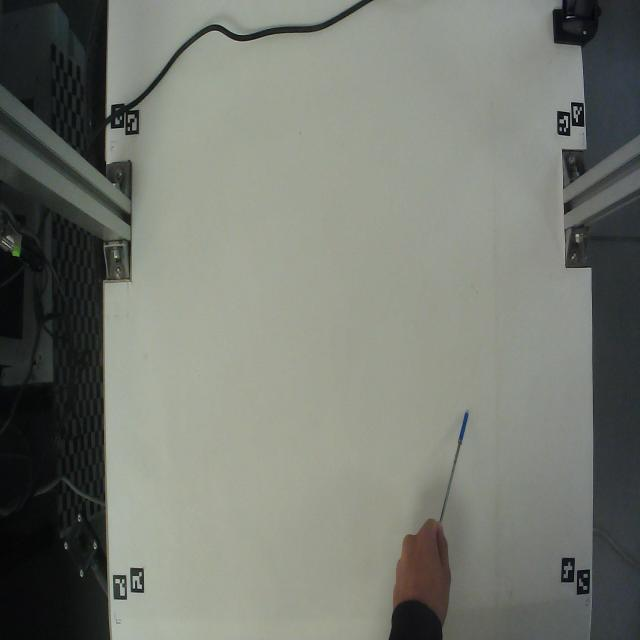Pres: (426, 392, 482, 530)
